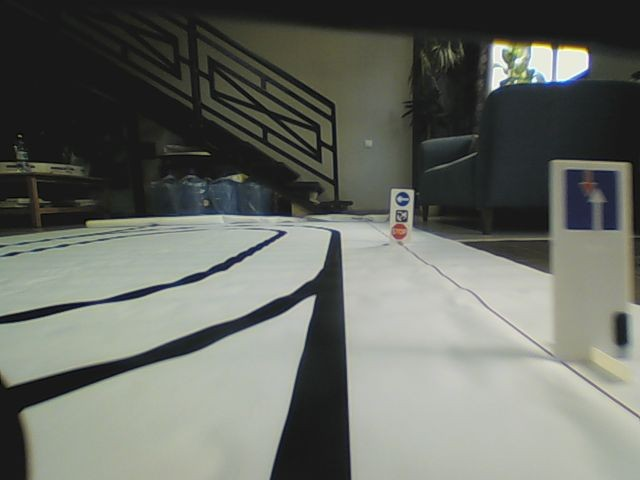Stop: (391, 223, 409, 239)
priority_movement: (560, 165, 622, 234)
